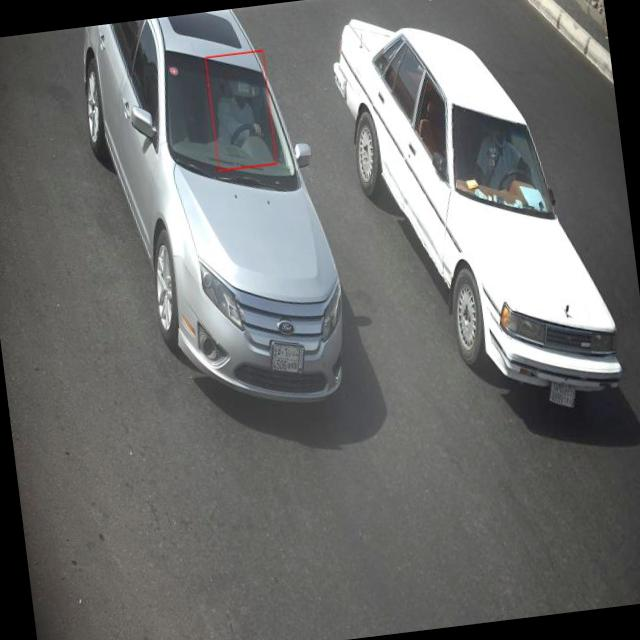person_without_seatbelt: (210, 56, 271, 164)
